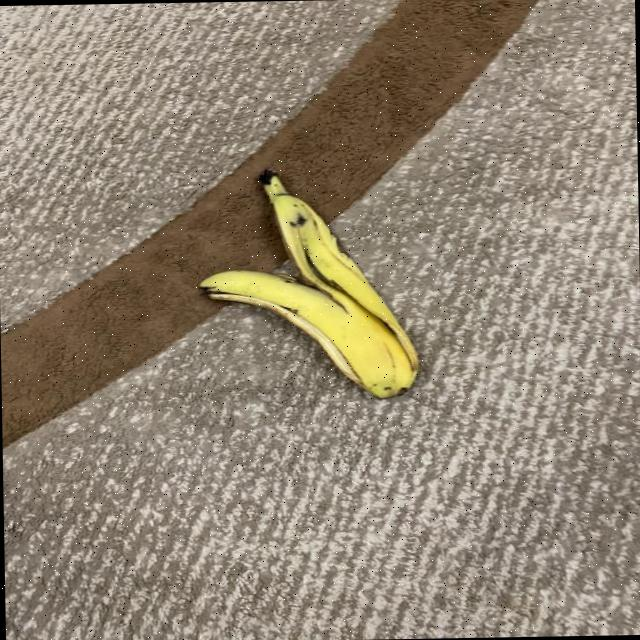banana-peel: (196, 163, 420, 402)
